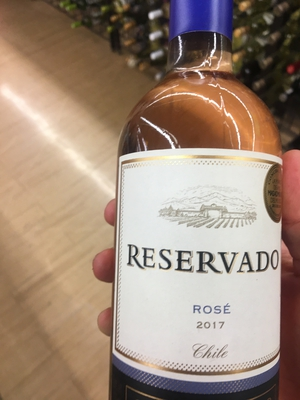reservado rose: (116, 8, 276, 400)
